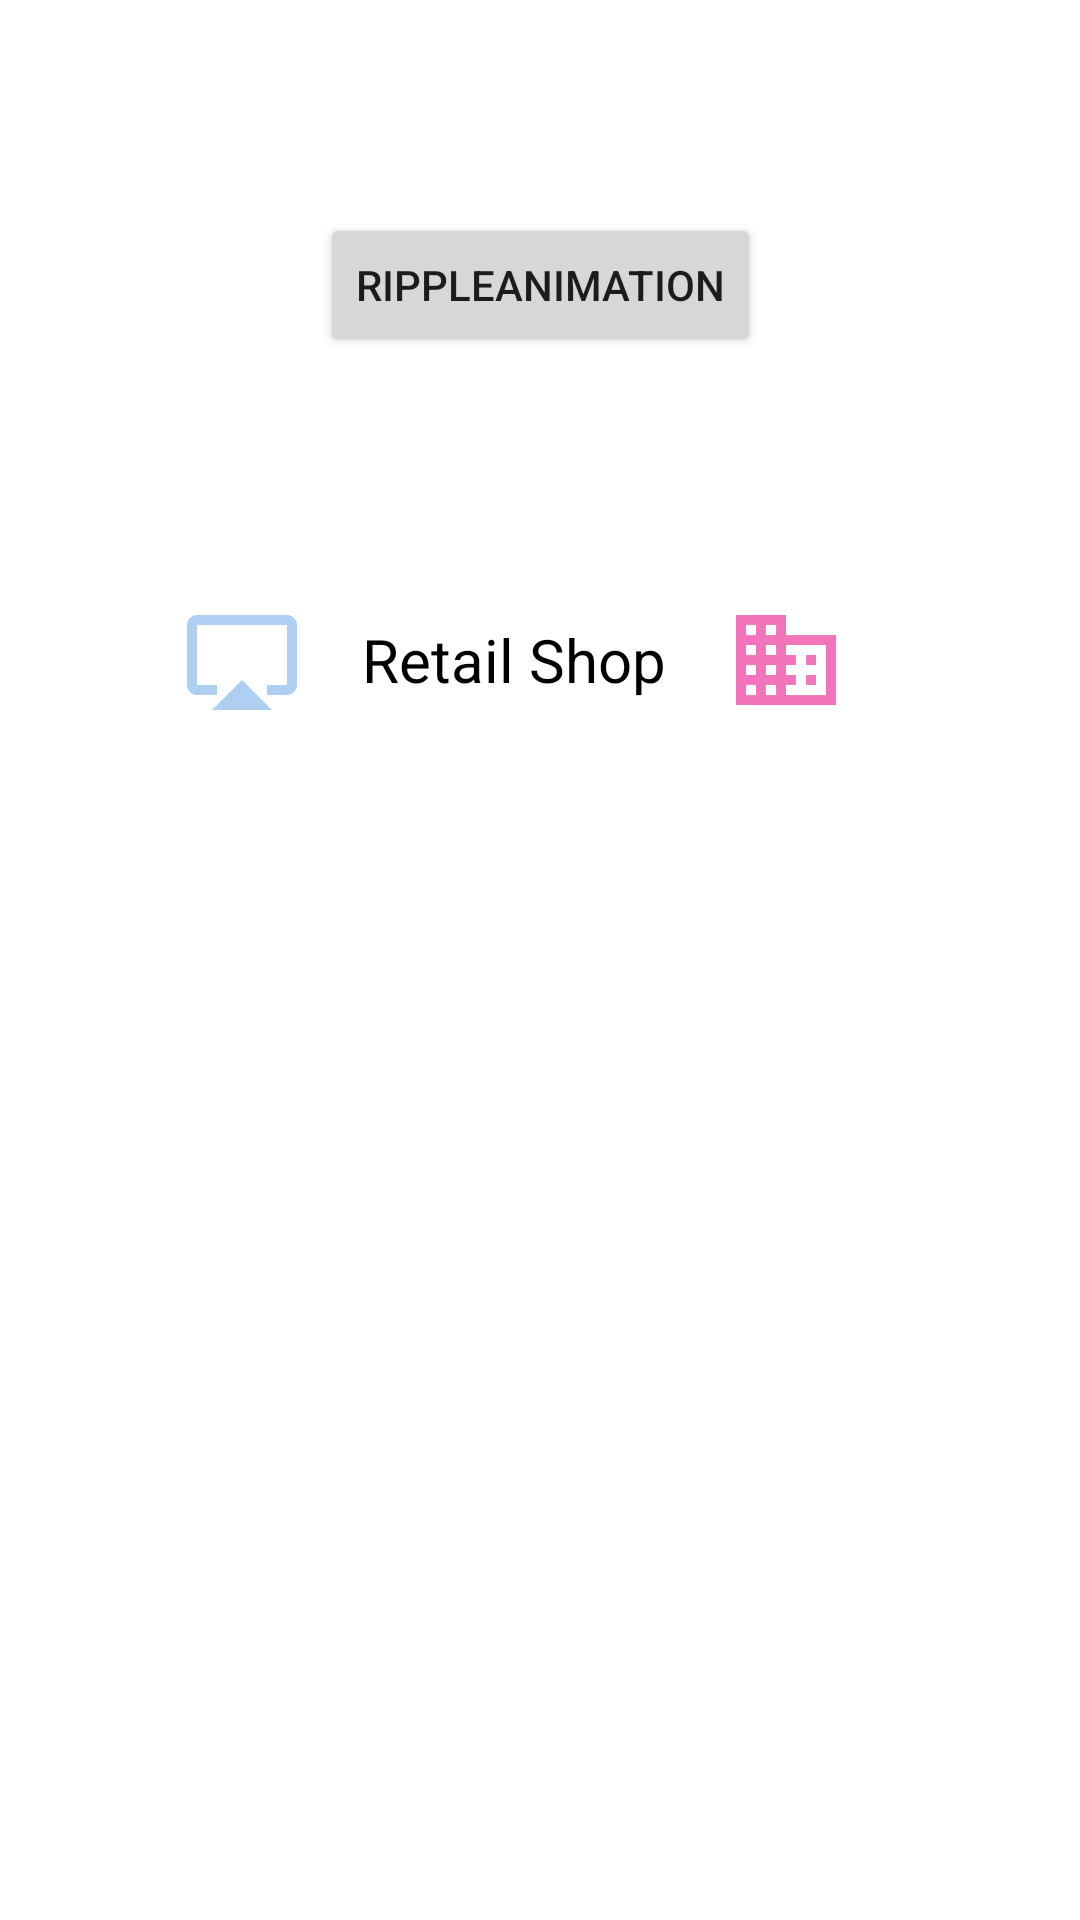

Icon click points for this 1080w x 1920h phone screenshot, format point (x, y):
business: point (786, 660)
